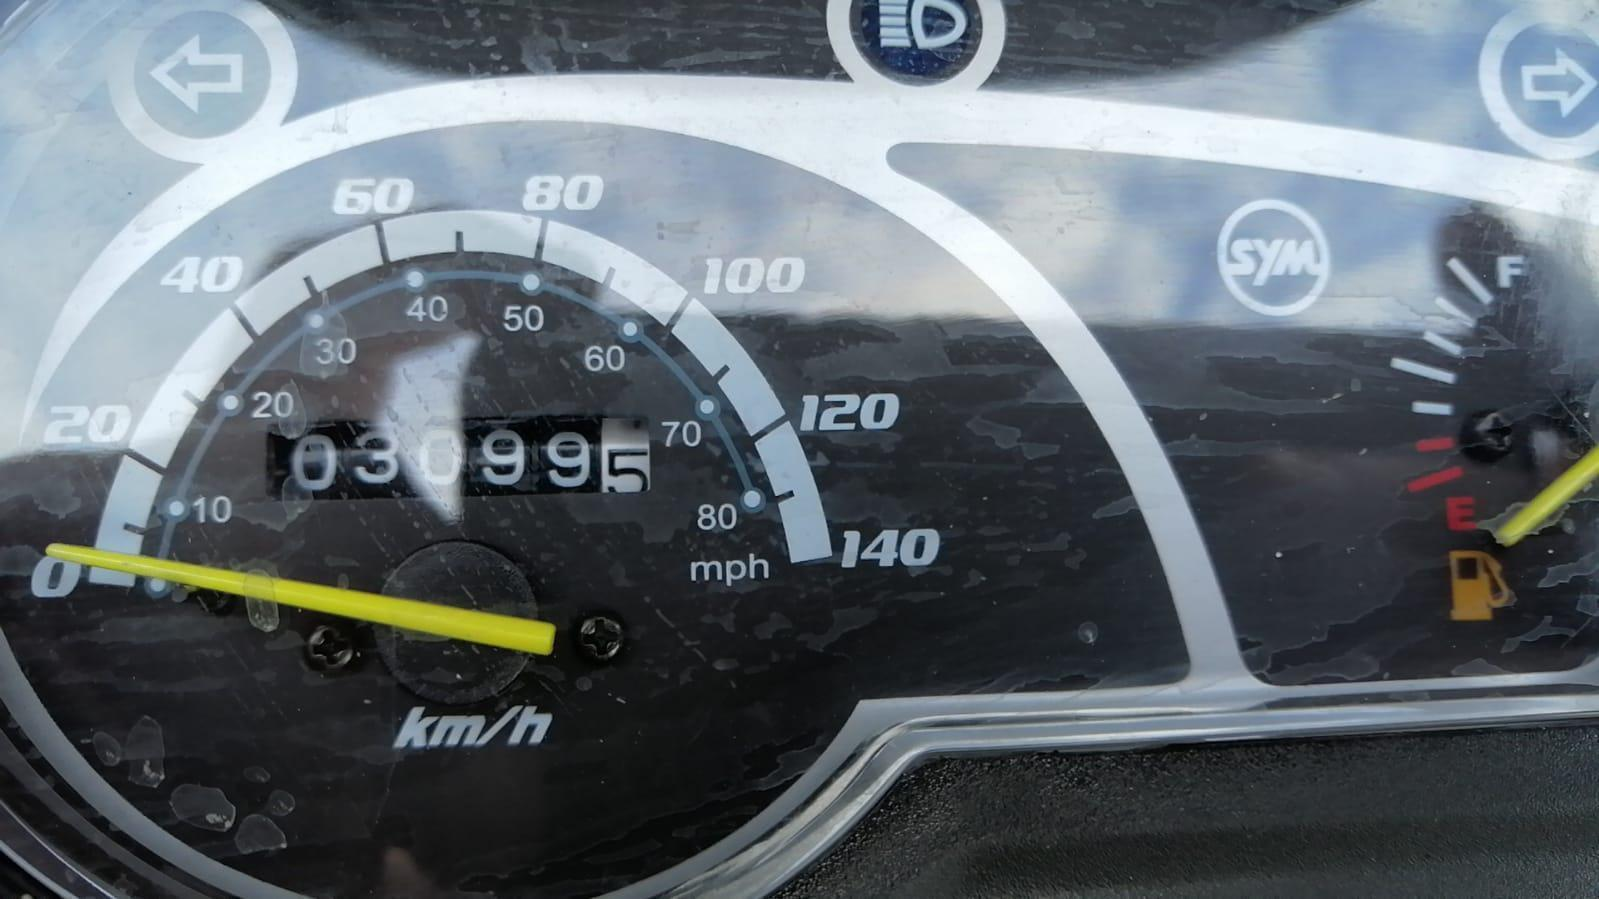0: (289, 429, 342, 492), (417, 426, 466, 488)
3: (353, 426, 403, 488)
5: (605, 441, 649, 497)
9: (543, 425, 593, 491), (480, 424, 527, 488)
odometer: (260, 413, 663, 499)
